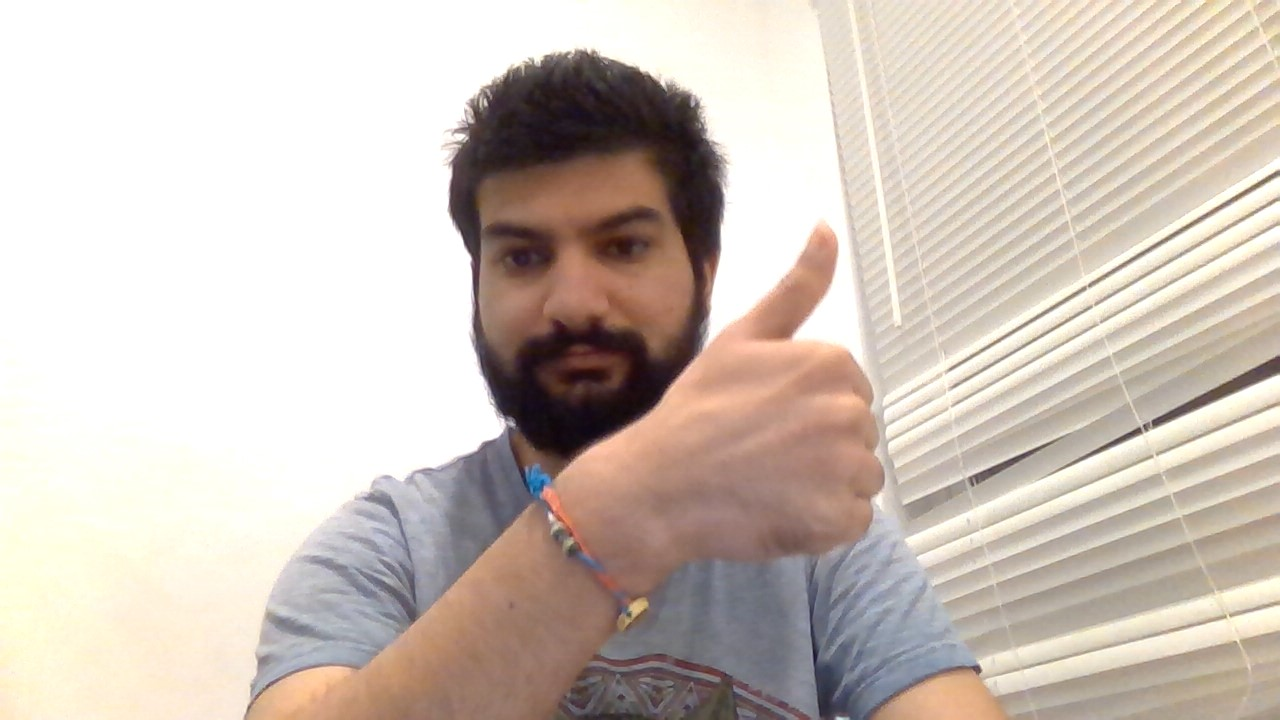up: (706, 219, 913, 563)
